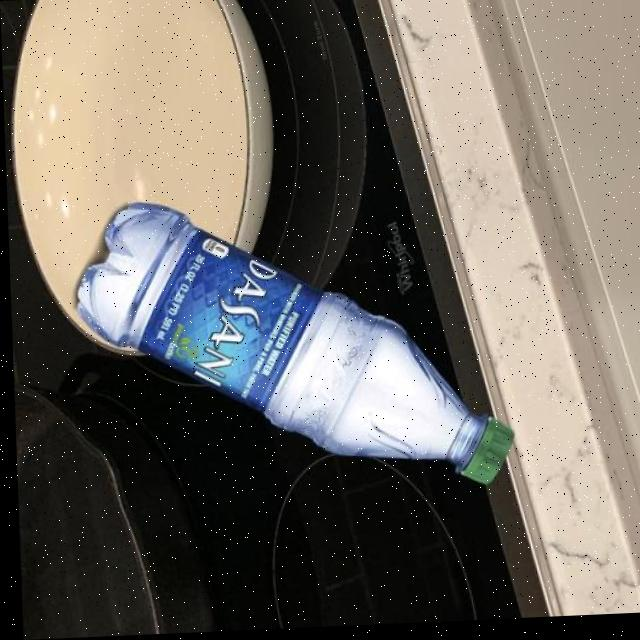bottle: (68, 190, 512, 504)
